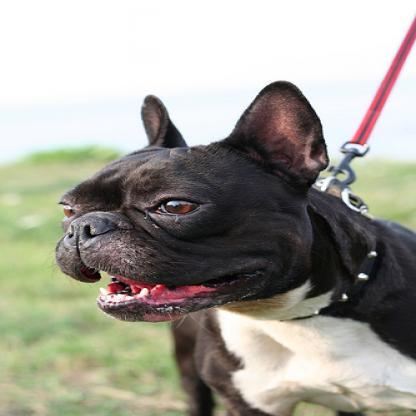French_bulldog: (50, 78, 412, 414)
